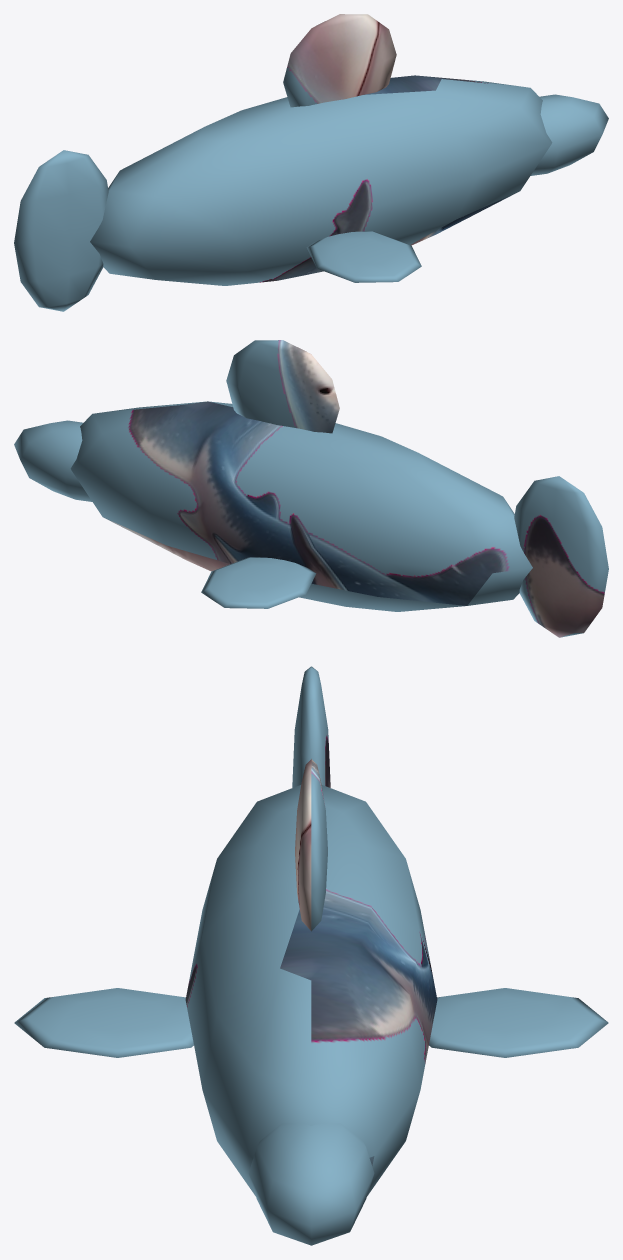
Rendered from shark.glb.
3 renders of one model, top to bottom at view 1: azimuth 30°, elevation 25°; view 2: azimuth 150°, elevation 25°; view 3: azimuth 270°, elevation 25°, orthographic. The views are drawn at different scales.
Visible parts, largest first — view 1: shark_body; view 2: shark_body; view 3: shark_body.
Part boxes in pixels (x1,y1,x2,y2): shark_body: [14, 14, 608, 311]; shark_body: [14, 340, 608, 637]; shark_body: [14, 666, 608, 1245].
Bounding box in the file's own units: 3.05 × 1.2 × 1.74.
1 material, 1 textured.
